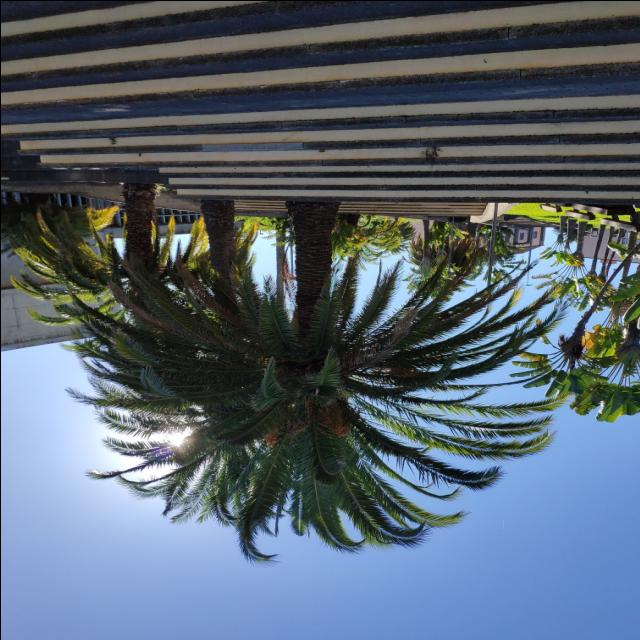Palm-Trees: (97, 200, 526, 542)
